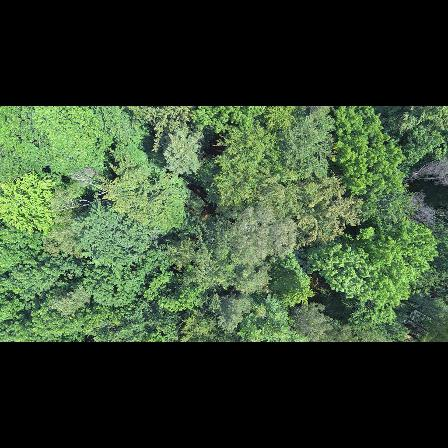Dead: (394, 191, 448, 225), (394, 158, 448, 186)
